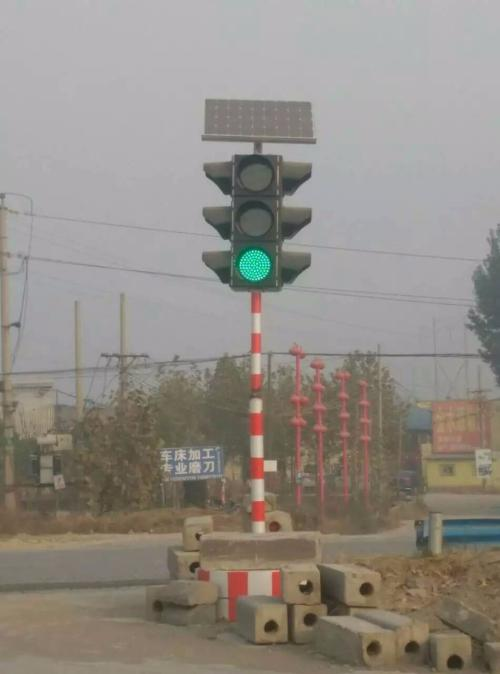green: (227, 152, 284, 298)
